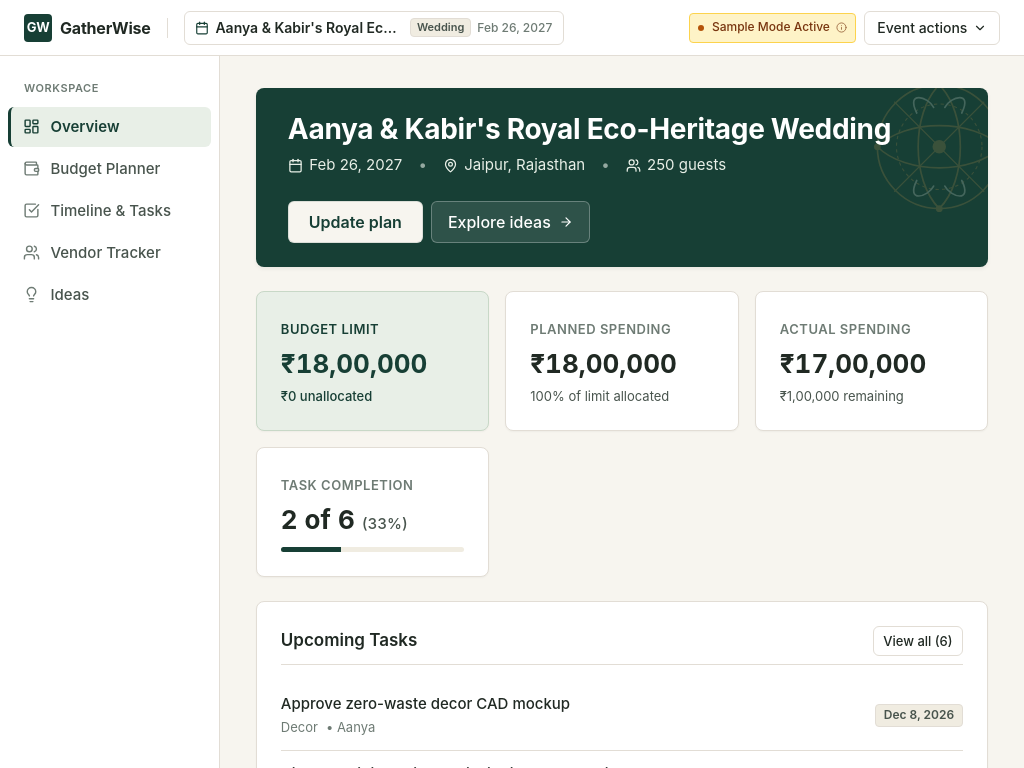
Test case: GatherWise Integration & Component Workflows › editing a budget row updates calculated totals in real time
Switch to Budget Planner
Click the button "Budget Planner" at (110, 168), box [8,148,211,188]
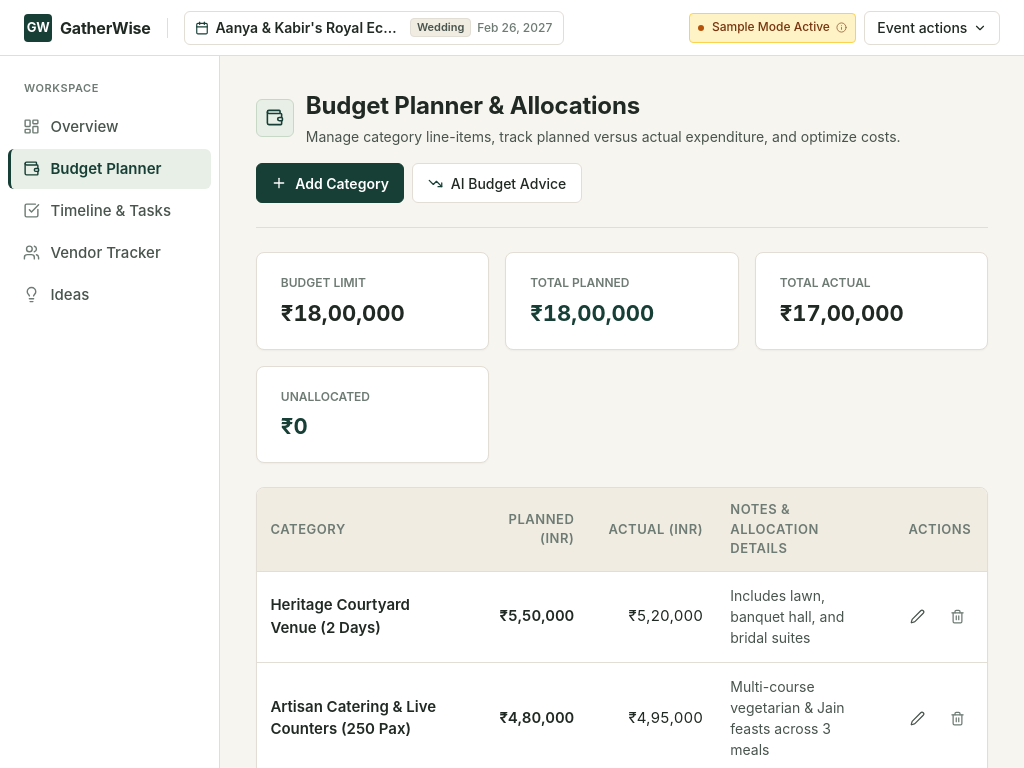
Check: the button named "Edit category" is shown
Click the button named "Edit category" at (917, 617), box [899,599,935,635]
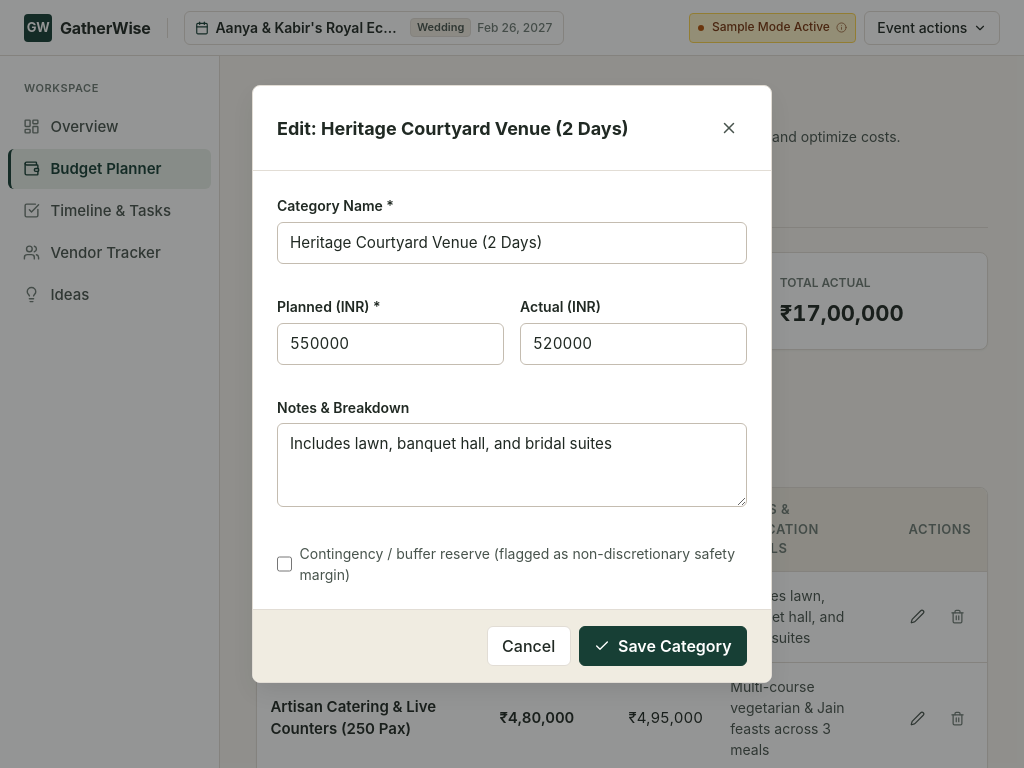
Check: the number field labelled "Planned (INR) *" is shown
Increase planned amount to trigger an over-budget condition
Replace the text in the number field labelled "Planned (INR) *" with "2500000" at (390, 344), box [277,323,504,365]
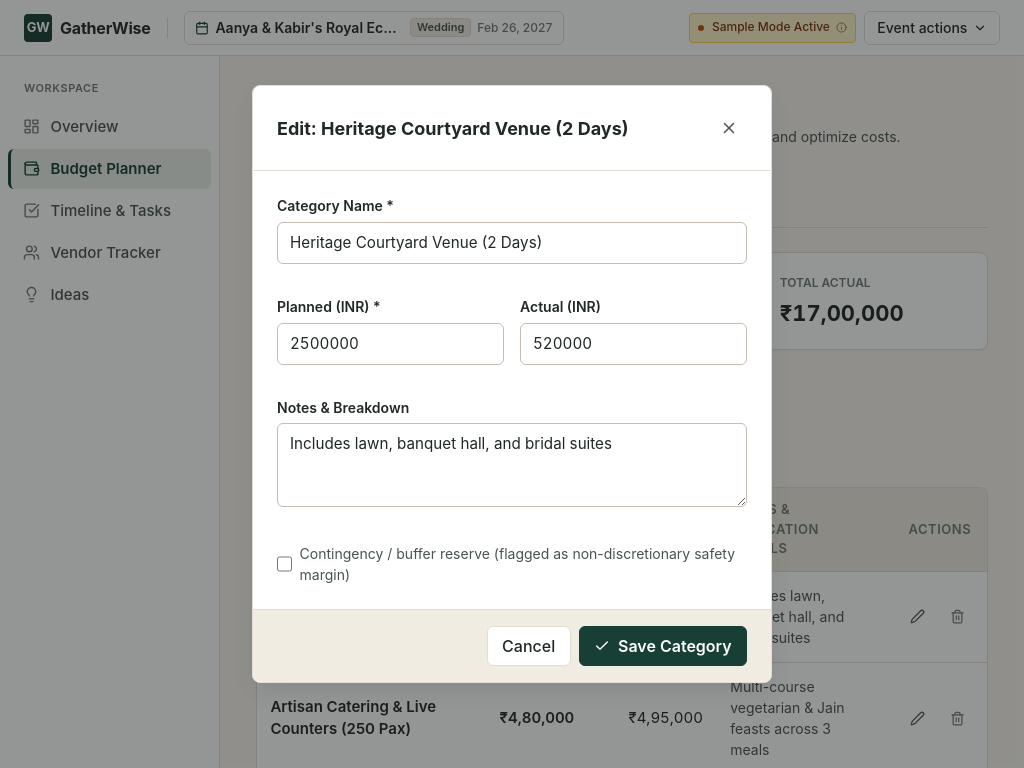
Save the category
Click the button "Save Category" at (663, 646), box [579,626,747,666]
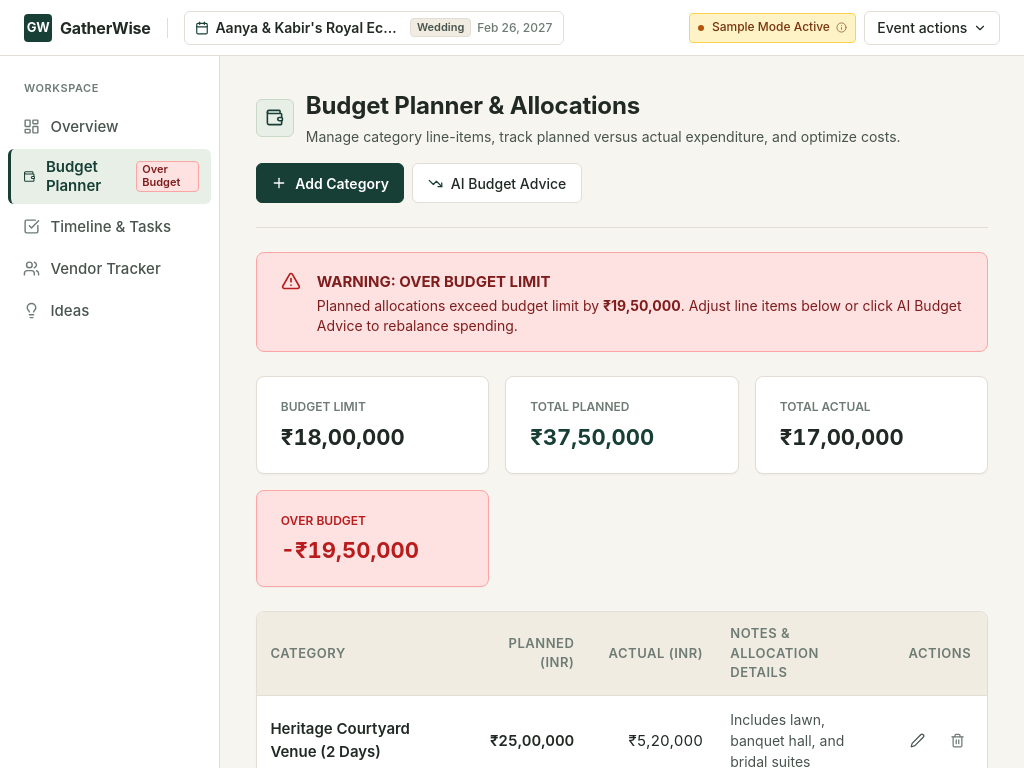
Check: the text "WARNING: OVER BUDGET LIMIT" is shown, box [317,272,550,291]
